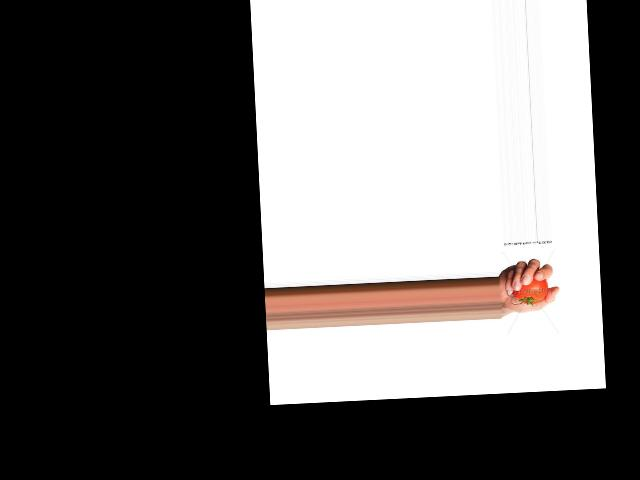tomato: (512, 278, 549, 304)
